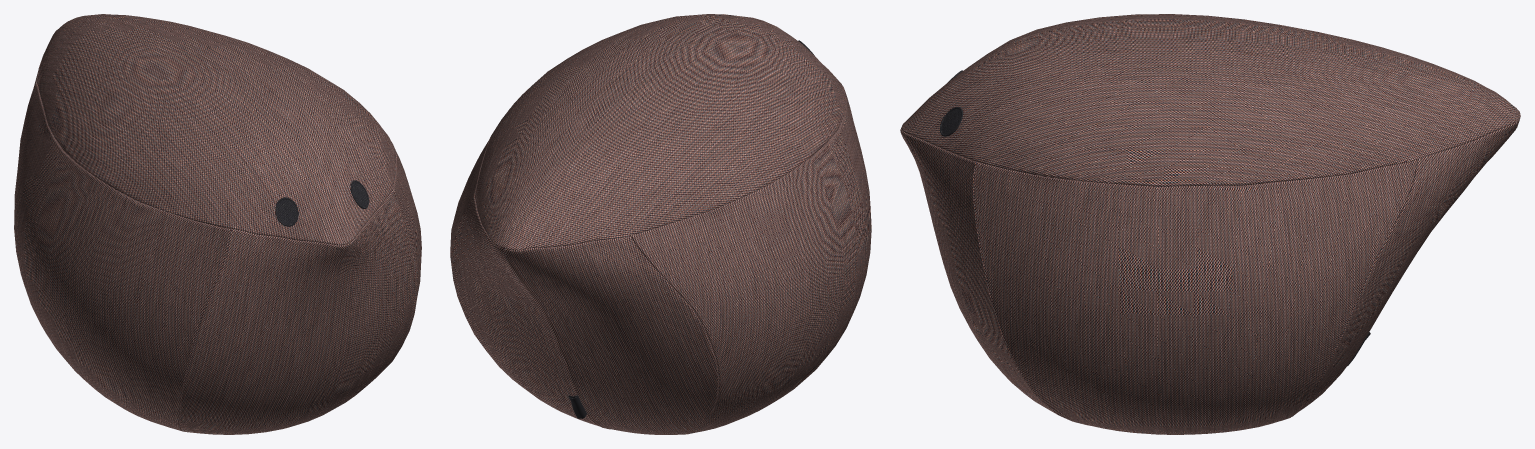
The model's file is Hulsta_Birdy_Pouf_mat(2).fbx.
The picture shows the model from 3 angles, left to right: view 1: azimuth 30°, elevation 25°; view 2: azimuth 150°, elevation 25°; view 3: azimuth 270°, elevation 25°; orthographic projection. The views are drawn at different scales.
Parts seen in each view (by area): view 1: Hulsta_Birdy_Pouf_mat2; view 2: Hulsta_Birdy_Pouf_mat2; view 3: Hulsta_Birdy_Pouf_mat2.
Part boxes in pixels (bbox=[...]): Hulsta_Birdy_Pouf_mat2: bbox=[14, 14, 421, 434]; Hulsta_Birdy_Pouf_mat2: bbox=[450, 14, 871, 434]; Hulsta_Birdy_Pouf_mat2: bbox=[900, 14, 1520, 434].
Size of the model in its own units: 50.8 by 74.33 by 48.
